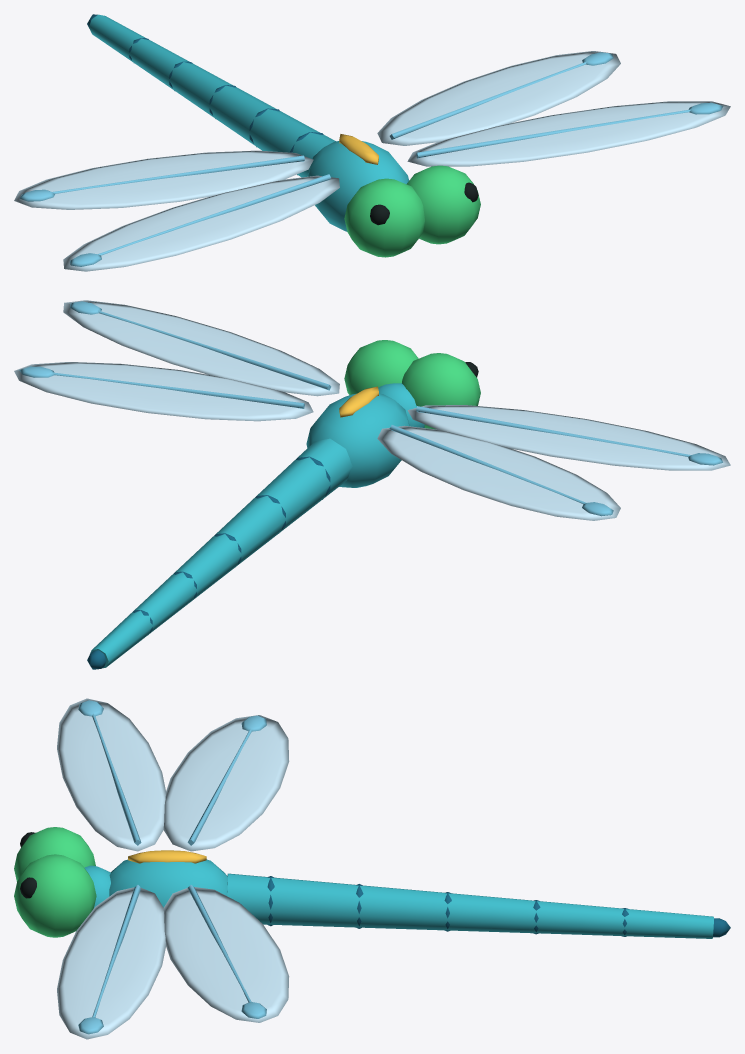
File: Dragonfly.glb
The picture shows the model from 3 angles, top to bottom: view 1: azimuth 30°, elevation 25°; view 2: azimuth 150°, elevation 25°; view 3: azimuth 270°, elevation 25°; orthographic projection. The views are drawn at different scales.
Visible parts, largest first — view 1: WingL__Wing, WingR__Wing, Body__DFBody, Body__DFEye, WingR__WingEdge, WingL__WingEdge, Body__Gold, Body__Eye, Body__DFDark; view 2: WingR__Wing, WingL__Wing, Body__DFBody, Body__DFEye, WingL__WingEdge, WingR__WingEdge, Body__DFDark, Body__Gold; view 3: WingR__Wing, WingL__Wing, Body__DFBody, Body__DFEye, WingL__WingEdge, WingR__WingEdge, Body__DFDark, Body__Gold.
Part boxes in pixels (<box>): WingL__Wing: <box>377,51,730,166</box>; WingR__Wing: <box>14,150,339,271</box>; Body__DFBody: <box>89,14,409,231</box>; Body__DFEye: <box>344,165,480,257</box>; WingR__WingEdge: <box>19,155,330,266</box>; WingL__WingEdge: <box>389,52,723,158</box>; Body__Gold: <box>339,134,378,164</box>; Body__Eye: <box>370,182,478,225</box>; Body__DFDark: <box>87,14,323,175</box>; WingR__Wing: <box>377,405,730,520</box>; WingL__Wing: <box>14,300,339,421</box>; Body__DFBody: <box>90,383,424,668</box>; Body__DFEye: <box>344,340,480,429</box>; WingL__WingEdge: <box>19,301,331,408</box>; WingR__WingEdge: <box>389,406,722,516</box>; Body__DFDark: <box>87,456,330,669</box>; Body__Gold: <box>339,386,378,417</box>; WingR__Wing: <box>57,698,289,851</box>; WingL__Wing: <box>57,887,289,1039</box>; Body__DFBody: <box>84,859,713,938</box>; Body__DFEye: <box>14,827,96,937</box>; WingL__WingEdge: <box>78,885,266,1034</box>; WingR__WingEdge: <box>78,700,266,845</box>; Body__DFDark: <box>267,876,730,937</box>; Body__Gold: <box>128,850,206,863</box>.
Bounding box in the file's own units: 1.37 × 0.18 × 1.22.
